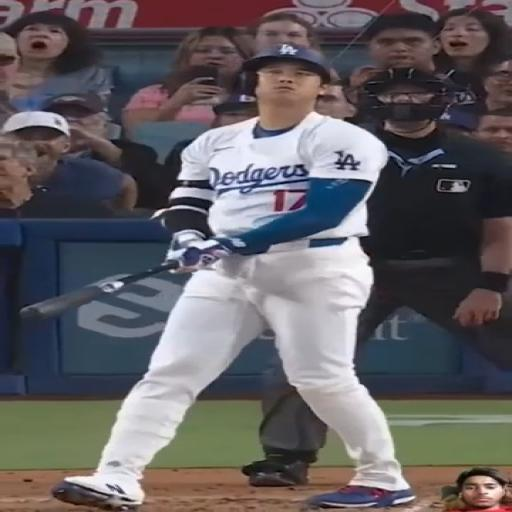bat: (20, 260, 180, 320)
